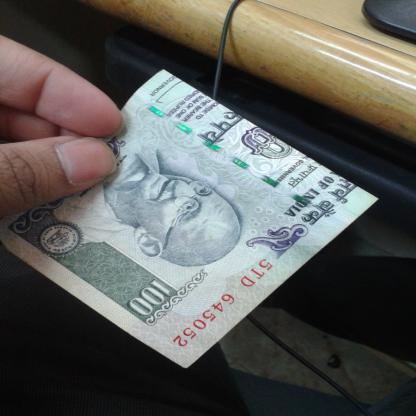Old100Front: (0, 68, 383, 370)
